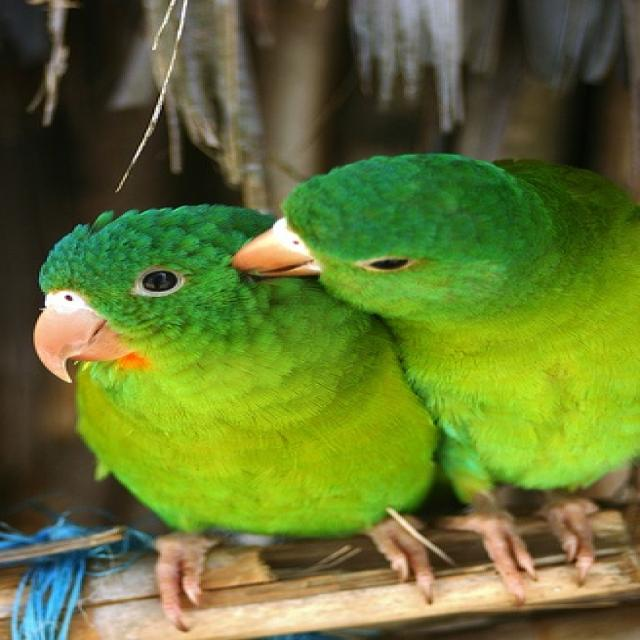bird: (232, 154, 634, 606), (31, 205, 435, 630)
